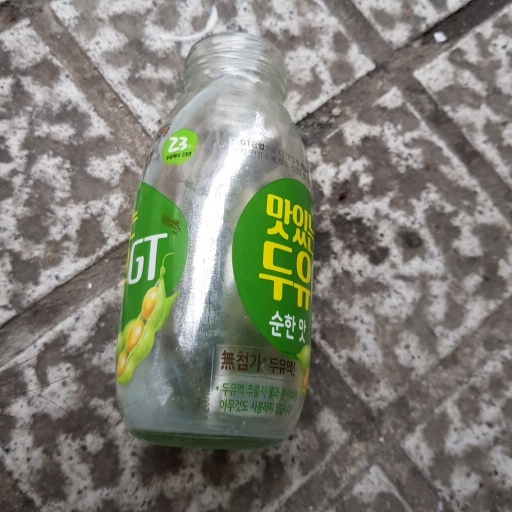Glass_4: (110, 32, 315, 452)
